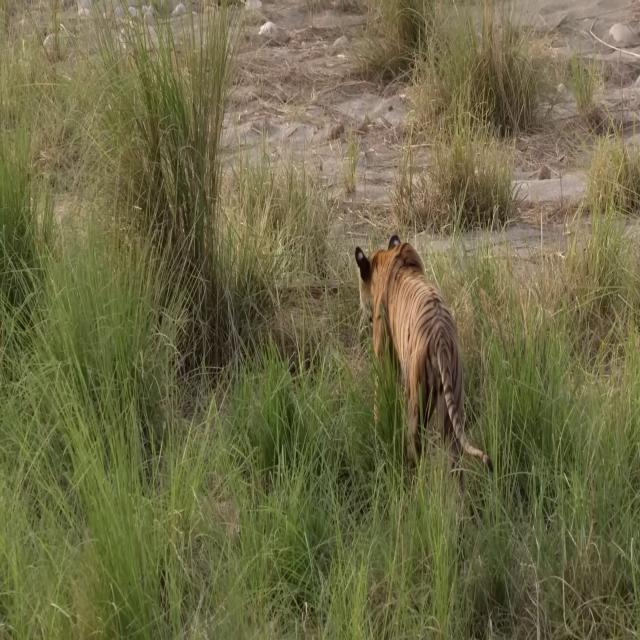tiger: (354, 230, 494, 474)
